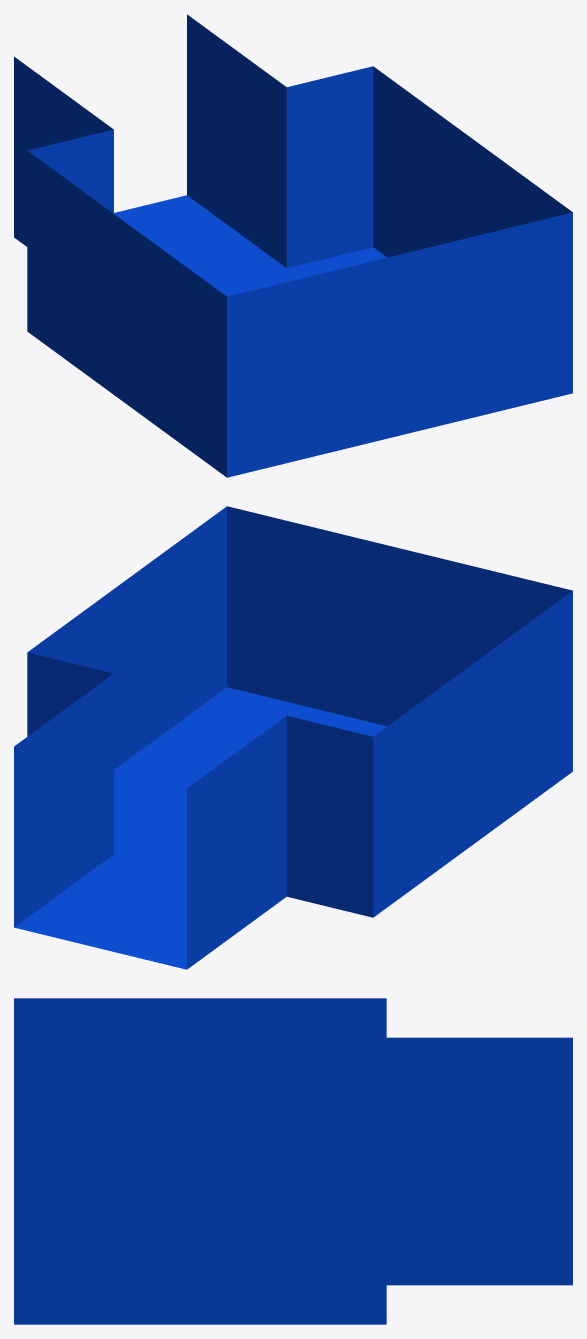
The model's file is deadend_0.glb.
3 renders of one model, top to bottom at view 1: azimuth 30°, elevation 25°; view 2: azimuth 150°, elevation 25°; view 3: azimuth 270°, elevation 25°, orthographic. The views are drawn at different scales.
Parts seen in each view (by area): view 1: deadend_0; view 2: deadend_0; view 3: deadend_0.
Part boxes in pixels (bbox=[...]): deadend_0: bbox=[14, 14, 572, 477]; deadend_0: bbox=[14, 506, 572, 969]; deadend_0: bbox=[14, 998, 572, 1324].
Size of the model in its own units: 2 by 1 by 3.
